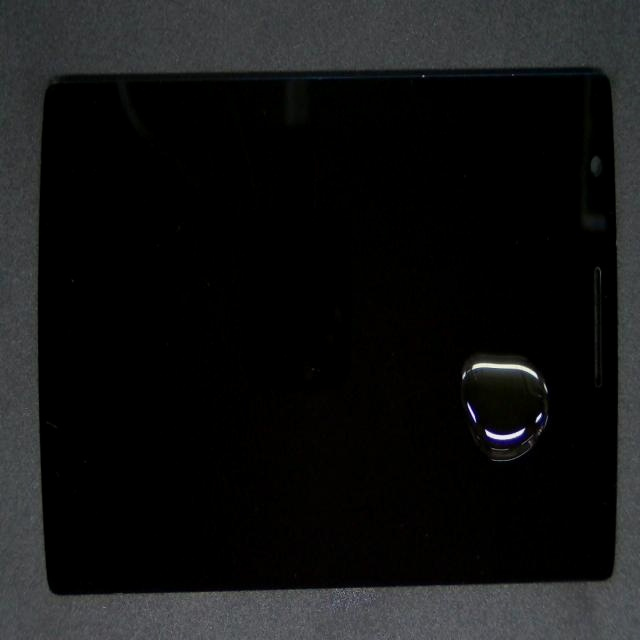oil: (296, 210, 640, 568)
